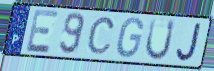9: (58, 12, 86, 56)
C: (86, 15, 117, 55)
E: (25, 8, 61, 55)
G: (115, 16, 145, 59)
J: (175, 22, 203, 63)
U: (143, 16, 177, 62)
